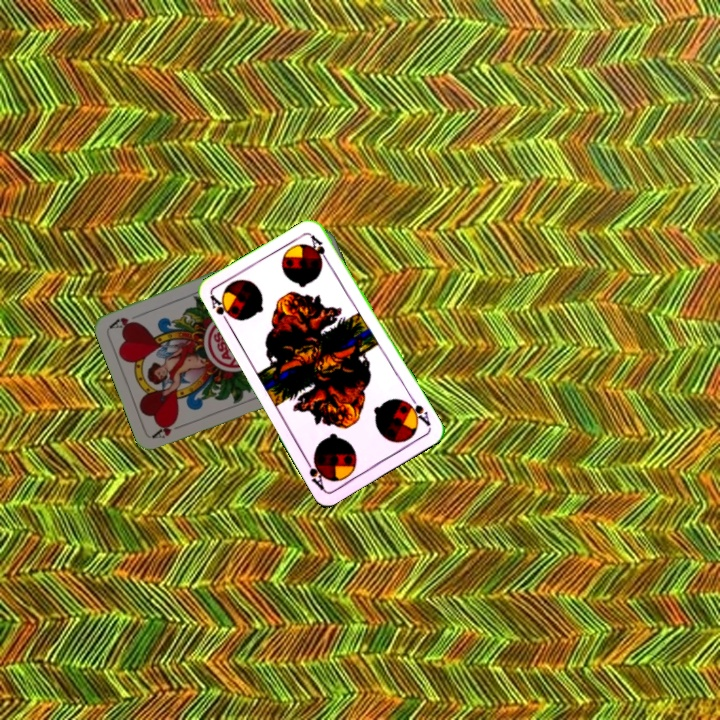HA: (149, 417, 189, 441)
SA: (401, 393, 434, 429), (206, 291, 234, 329)
